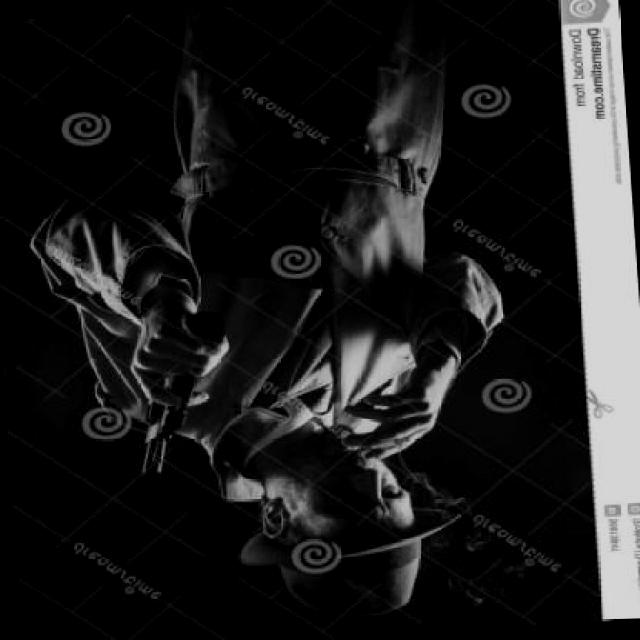cigarette: (351, 432, 411, 456)
